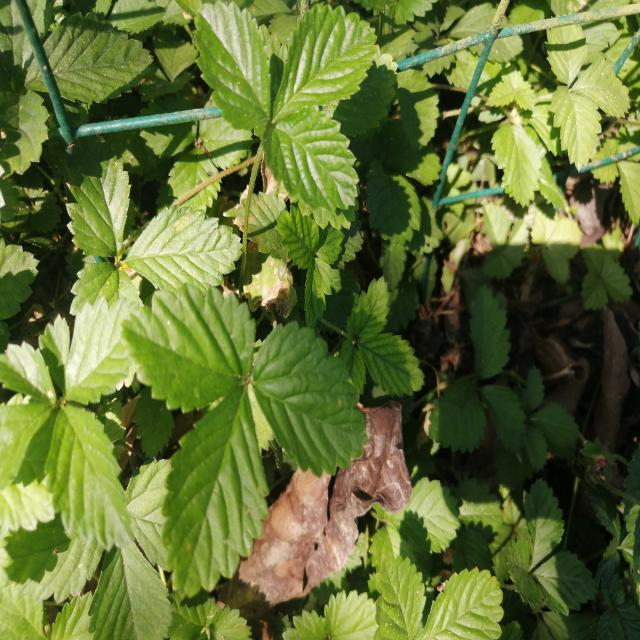Mock_strawberry: (138, 280, 359, 600), (0, 279, 167, 556), (208, 0, 369, 224)
